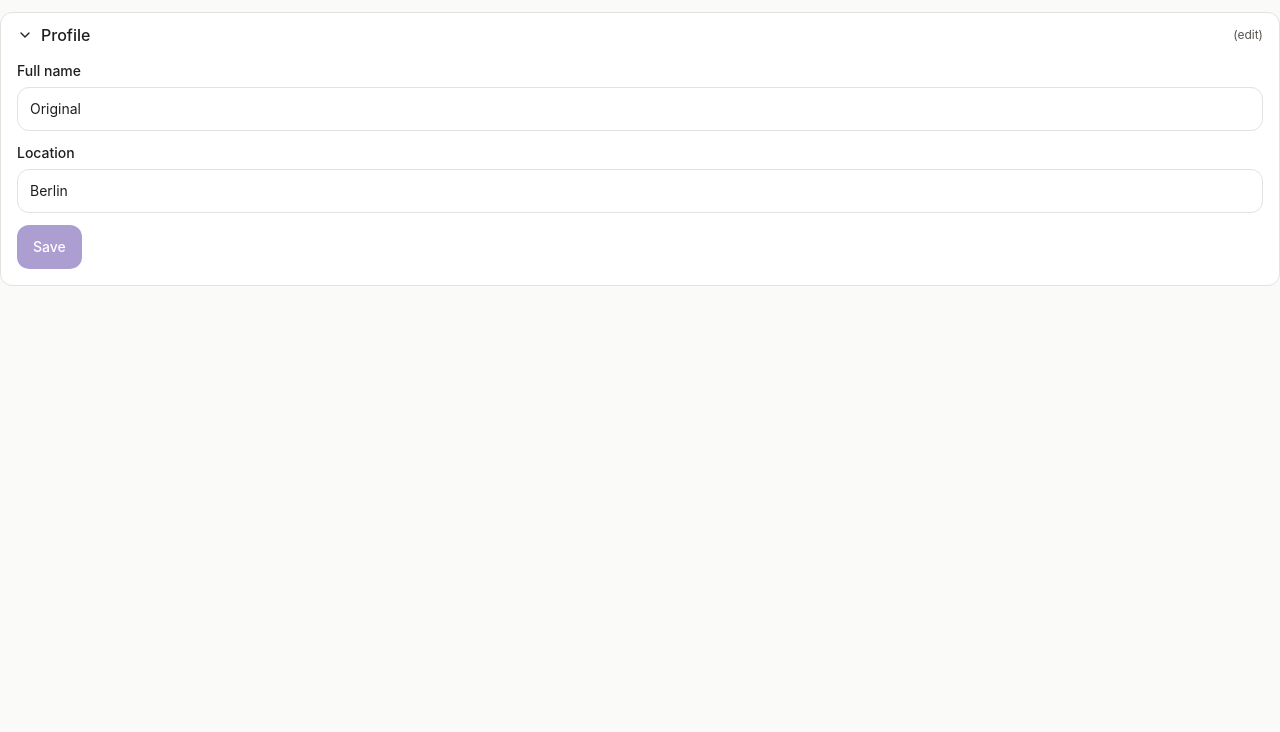
ProfileForm optimistic write › happy path: writes through and the cache settles on the persisted value
Replace the text in the field labelled "Full name" with "Jane Doe" at (640, 109), box [17,87,1263,131]
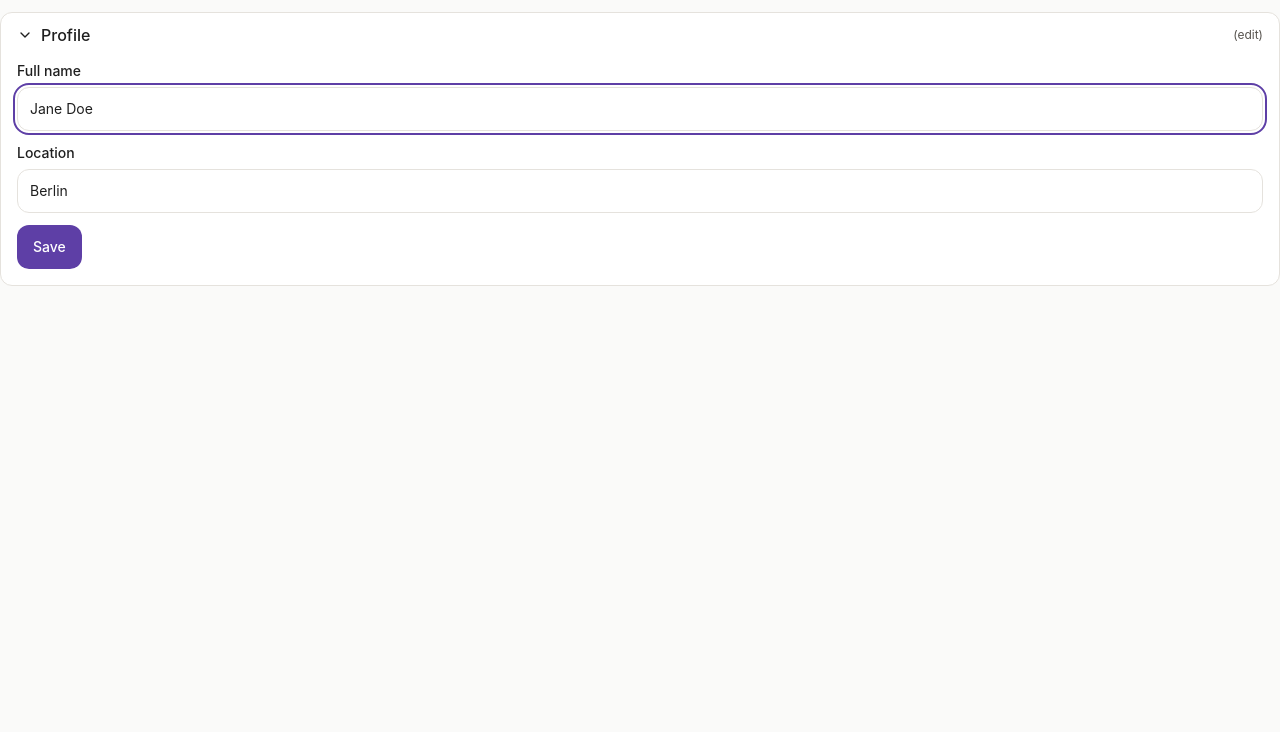
Click the button "Save" at (49, 247), box [17,225,82,269]
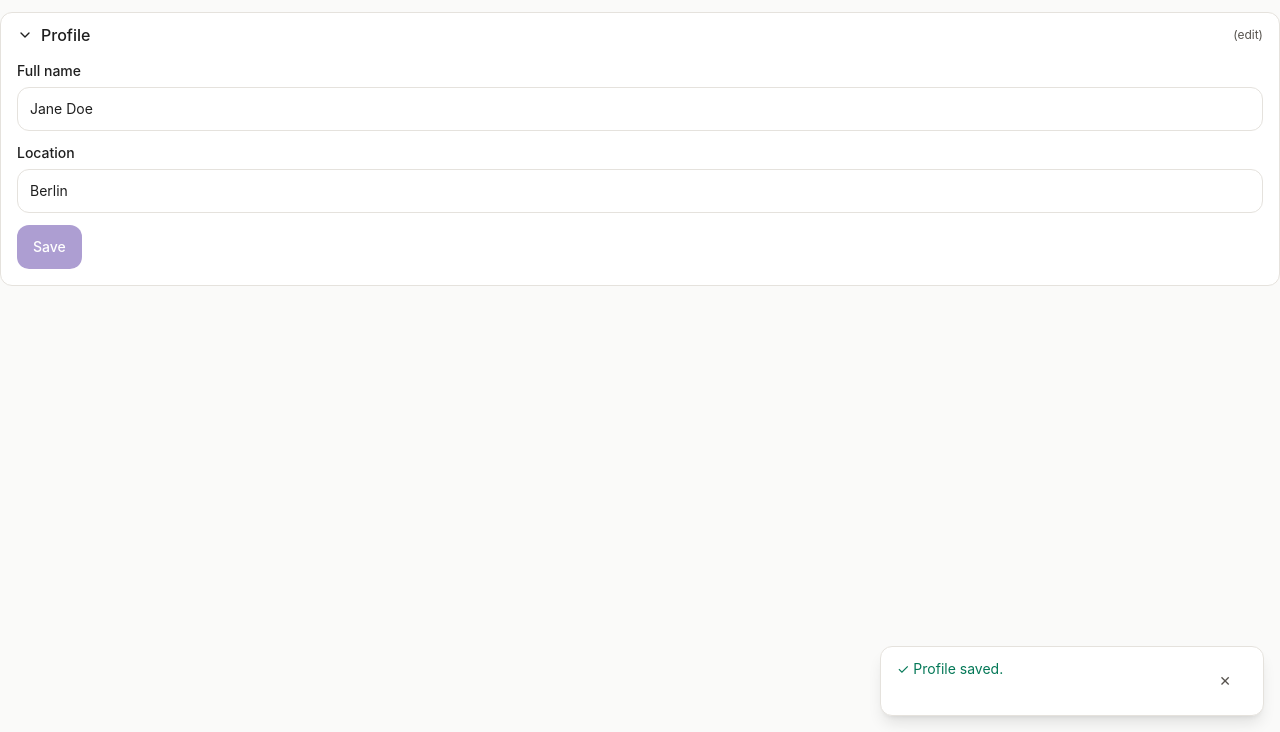
Now the text "✓ Profile saved." is shown, box [897,659,1003,679]
